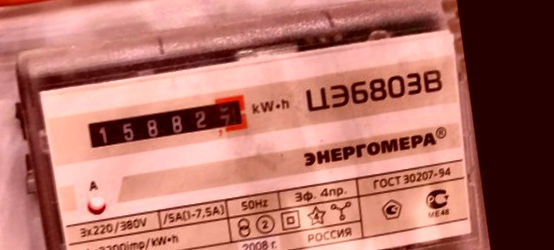1: (93, 122, 108, 142)
2: (191, 106, 206, 127)
5: (118, 118, 133, 140)
7: (217, 110, 230, 126)
8: (143, 114, 157, 136), (168, 111, 182, 133)
screen: (76, 86, 256, 155)
